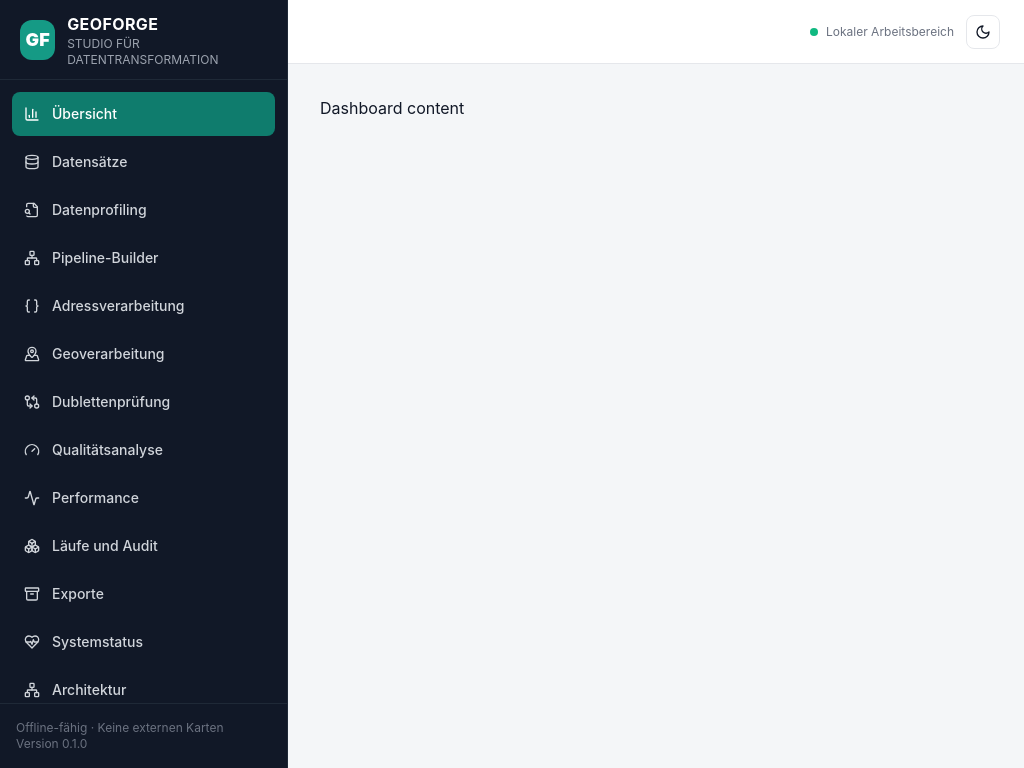
Test: shared interface › provides all navigation and changes routes
expect the navigation bar named "Hauptnavigation" is shown: met, box x1=0 y1=80 x2=287 y2=703
Click the link "Datensätze".
click(76, 162)  # box x1=24 y1=153 x2=127 y2=170
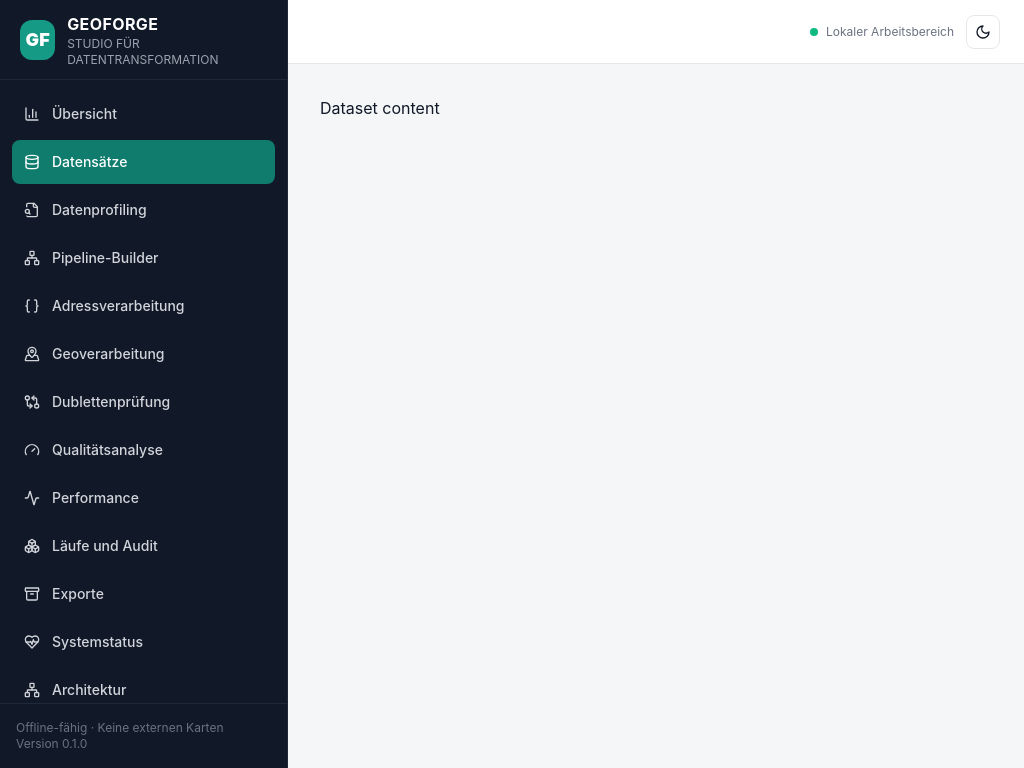
expect the heading "Dataset content" is shown: met, box x1=320 y1=98 x2=440 y2=118
